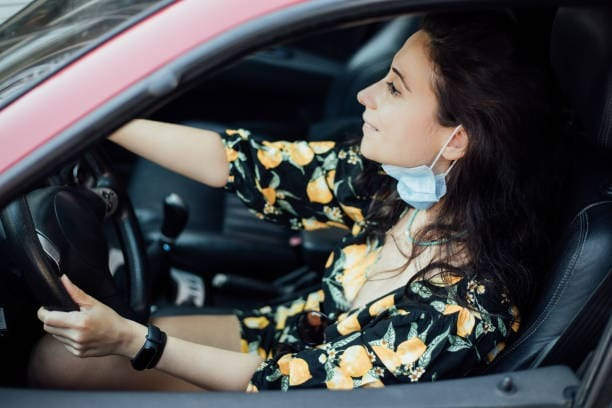with_incorrect_mask: (354, 31, 455, 208)
